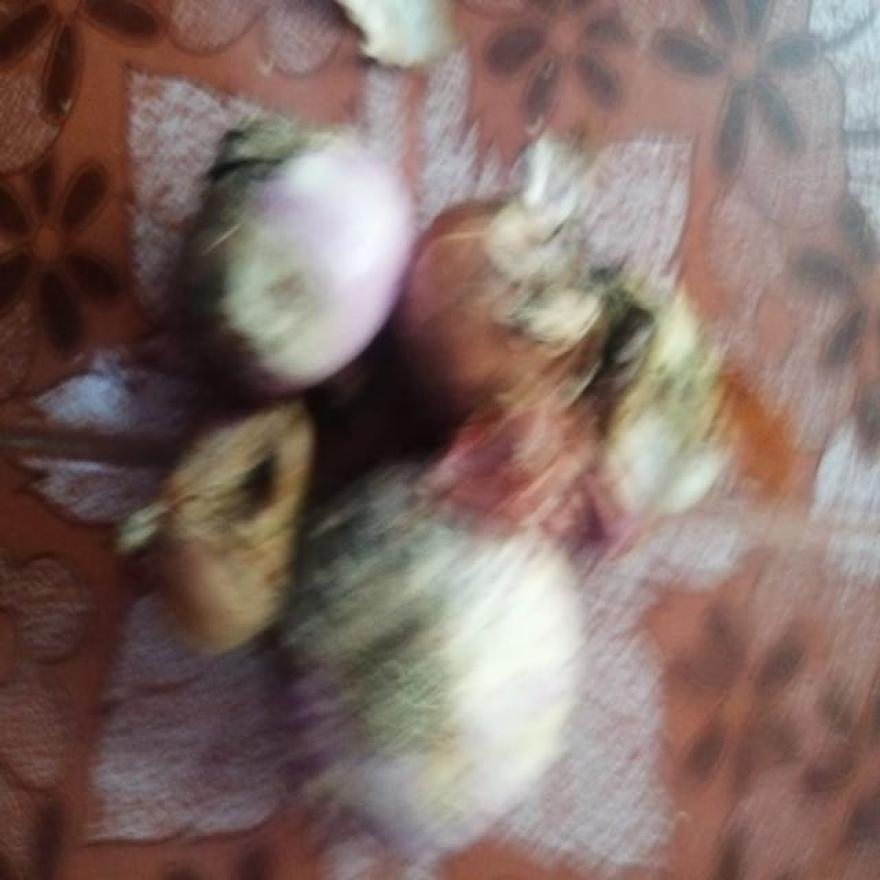Rotten: (190, 452, 286, 541)
